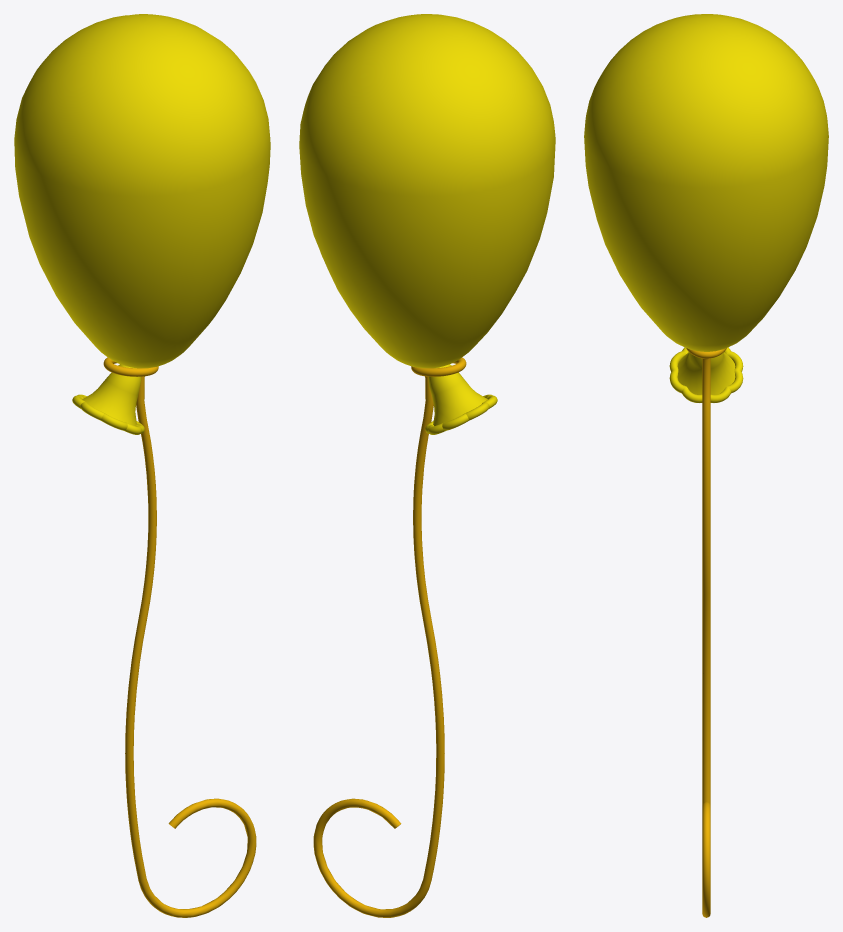
Rendered from 0-Balloon1.fbx.
3 views of the same model, side by side, from view 1: azimuth 30°, elevation 25°; view 2: azimuth 150°, elevation 25°; view 3: azimuth 270°, elevation 25° (orthographic). The views are drawn at different scales.
Visible parts, largest first — view 1: Sweep [12101]; view 2: Sweep [12101]; view 3: Sweep [12101].
Boxes of the visible parts, x1,y1,x2,y2 form: Sweep [12101]: [14, 14, 270, 917]; Sweep [12101]: [299, 14, 555, 917]; Sweep [12101]: [584, 14, 828, 917].
Size of the model in its own units: 90.77 by 349 by 90.
